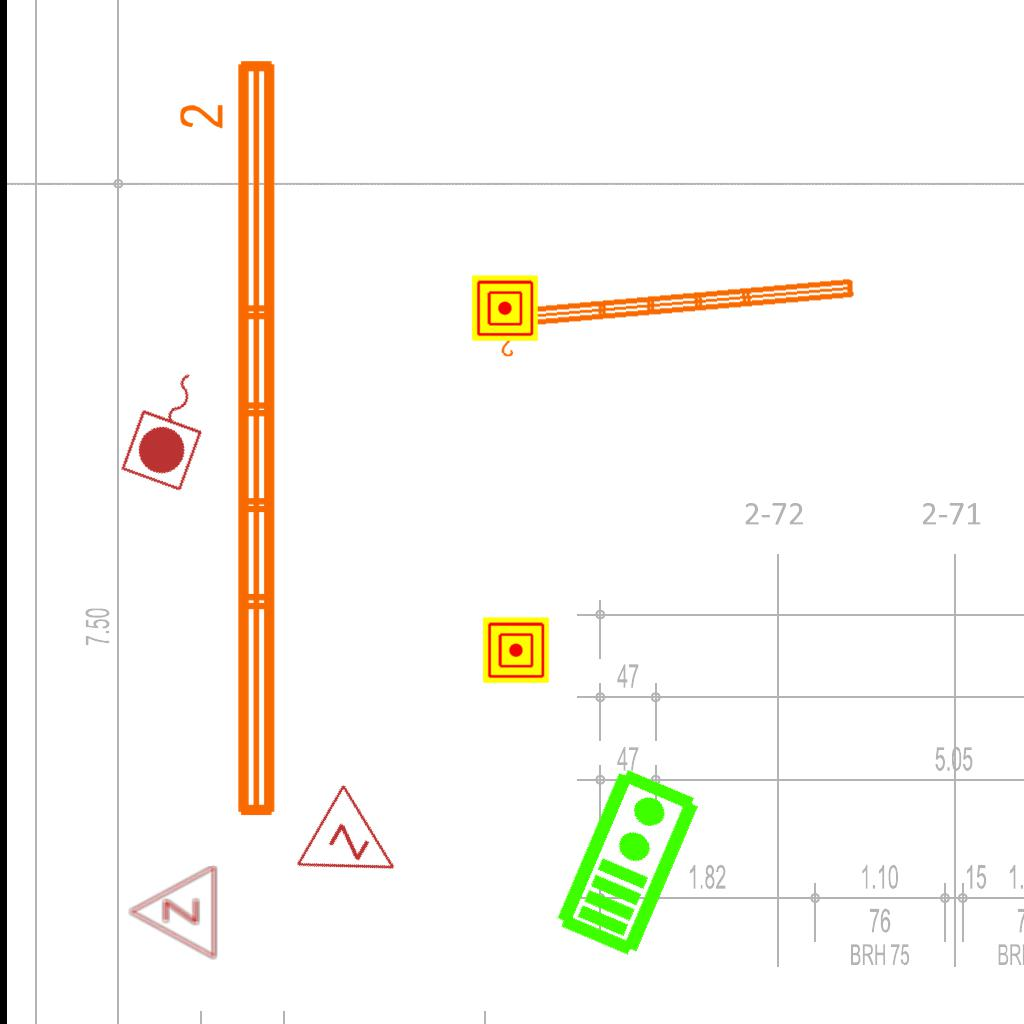Ambulanz_Pendelleuchte_LED: (175, 52, 287, 826), (471, 272, 862, 362)
Gegensprechanlage_mit_Video: (548, 761, 705, 961)
NAM-Nichtautomatischer_Melder: (483, 617, 549, 683), (472, 275, 538, 341)
Zimmersignalleuchte: (289, 777, 425, 913), (123, 864, 223, 962)
Zugtaster: (116, 357, 226, 497)
